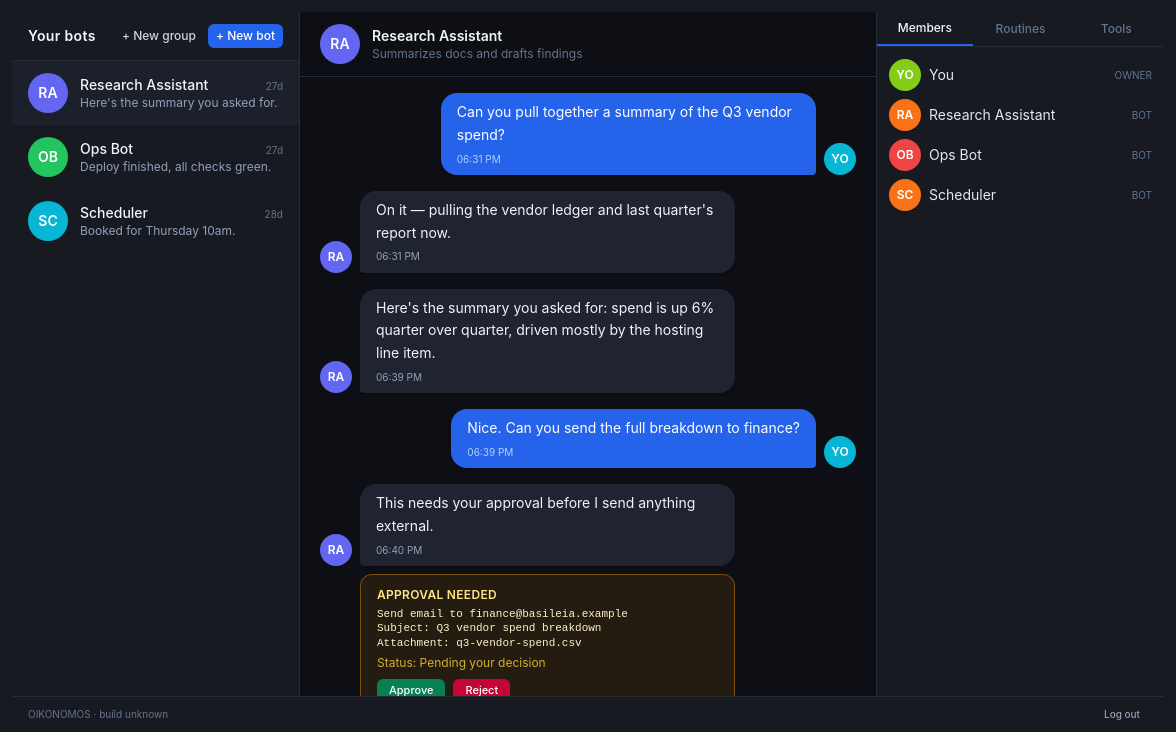
Test case: ChatShell › right panel switches between Members and Routines tabs
Expected: the list named "Members" is shown, left=889, top=59, right=1152, bottom=211
Step 1. Click the tab "Routines" → (1021, 29), box left=973, top=12, right=1068, bottom=46
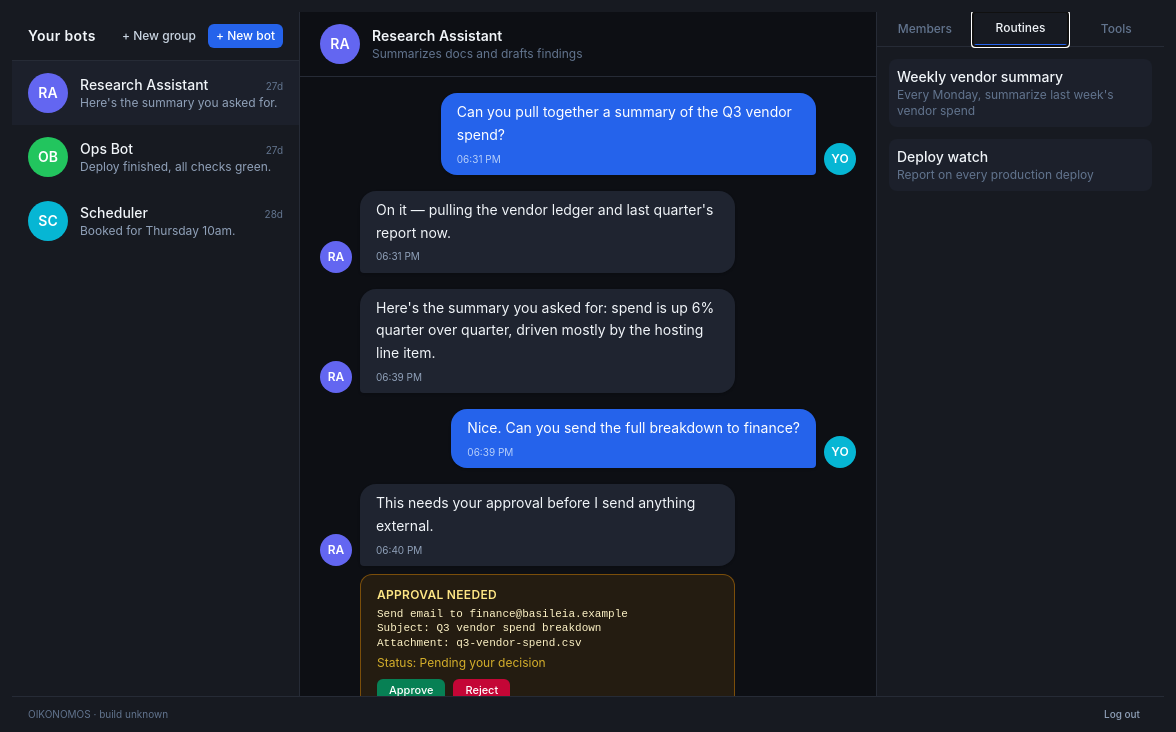
Expected: the list named "Routines" is shown, left=889, top=59, right=1152, bottom=191
